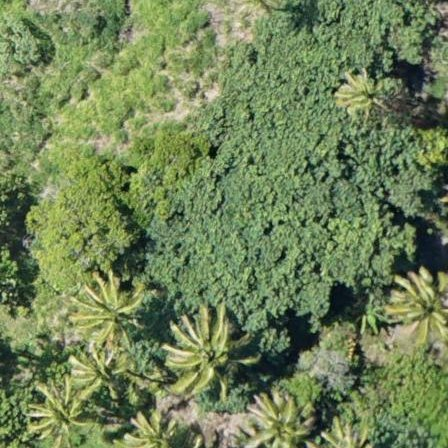palm_tree: (163, 307, 252, 392), (75, 277, 148, 357), (26, 375, 95, 448), (390, 265, 448, 345), (241, 393, 313, 448), (336, 70, 390, 121), (118, 407, 184, 448), (69, 350, 126, 395)
